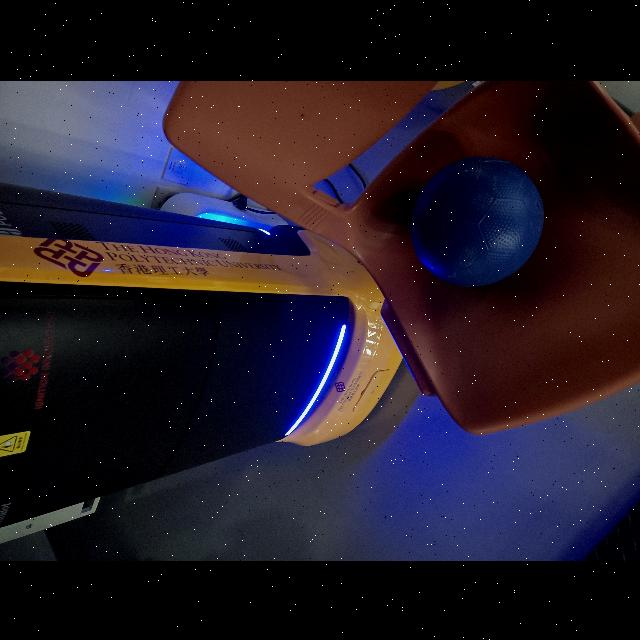B: (410, 154, 546, 286)
